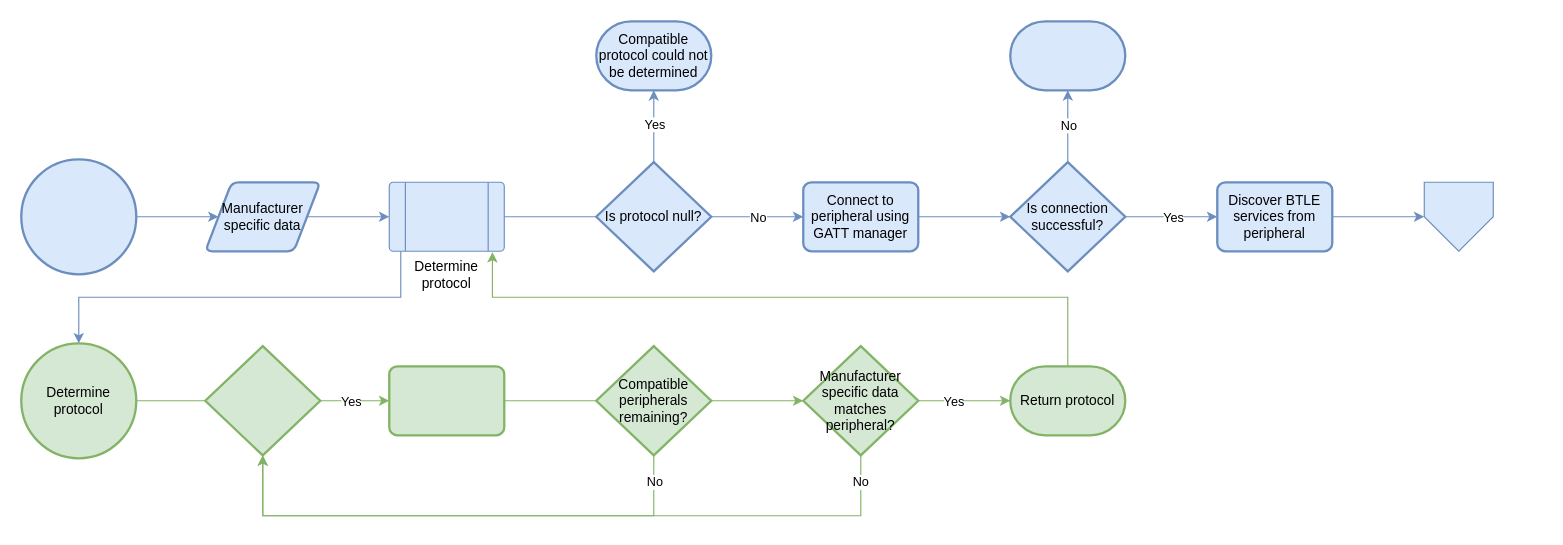
Image size: 1563x545. Some labels were removed from this diagram. Each missing label, with the box of its shape:
Connect device: (20, 158, 137, 275)
Continue based on protocol implementation: (1423, 181, 1493, 251)
Get compatible peripherals from protocol: (388, 365, 505, 436)
Protocols remaining?: (204, 344, 321, 456)
Unable to connect to peripheral: (1009, 20, 1126, 91)
